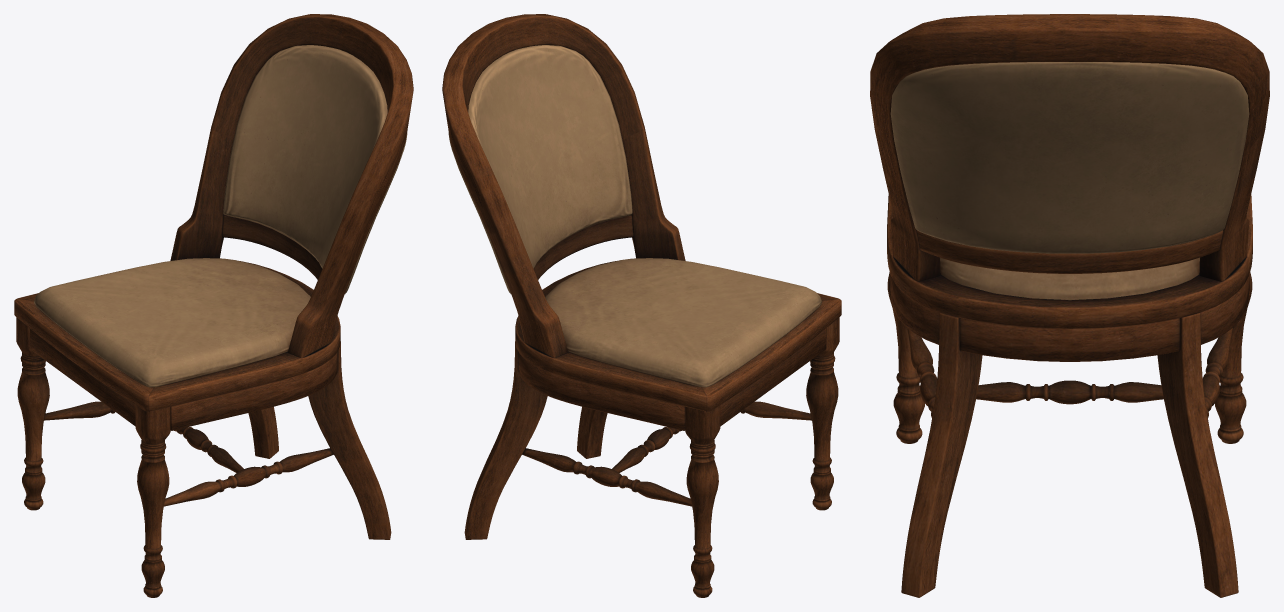
Rendered from chair.glb.
The picture shows the model from 3 angles, left to right: view 1: azimuth 30°, elevation 25°; view 2: azimuth 150°, elevation 25°; view 3: azimuth 270°, elevation 25°; orthographic projection. The views are drawn at different scales.
Visible parts, largest first — view 1: Chair; view 2: Chair; view 3: Chair.
Boxes of the visible parts, bbox=[...] form: Chair: bbox=[14, 14, 413, 597]; Chair: bbox=[442, 14, 841, 597]; Chair: bbox=[870, 14, 1269, 597].
Bounding box in the file's own units: 0.6988 × 0.9756 × 0.5827.
Materials: 1 (1 with a texture image).
